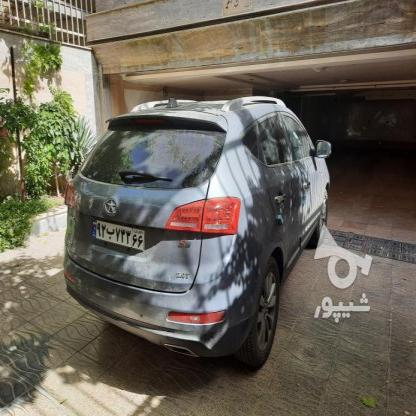licence: (90, 218, 146, 250)
